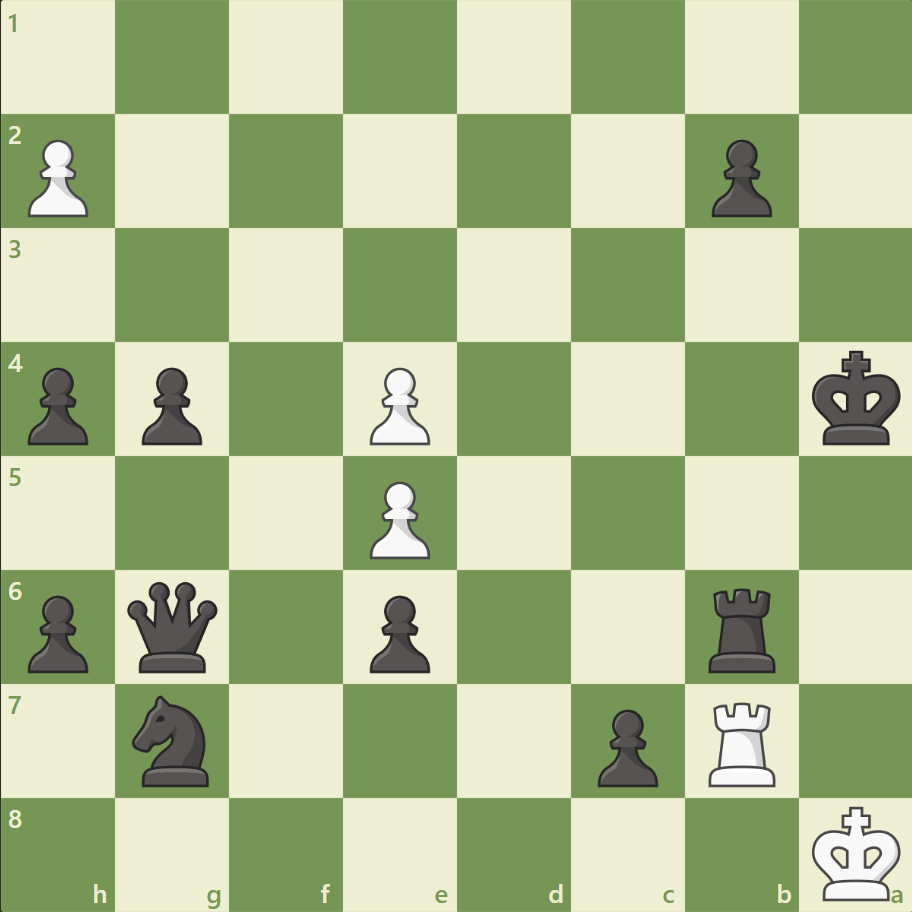K: (806, 798, 906, 906)
P: (20, 132, 95, 223), (361, 473, 435, 564), (361, 359, 435, 450)
R: (700, 693, 783, 790)
k: (806, 344, 906, 452)
n: (124, 688, 222, 791)
p: (20, 586, 95, 677), (133, 359, 208, 450), (20, 359, 95, 450), (701, 132, 776, 223), (588, 700, 662, 791), (361, 586, 435, 677)
q: (124, 576, 223, 676)
r: (700, 579, 783, 676)
